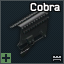Axion Kobra dovetail mount: (0, 0, 64, 64)
